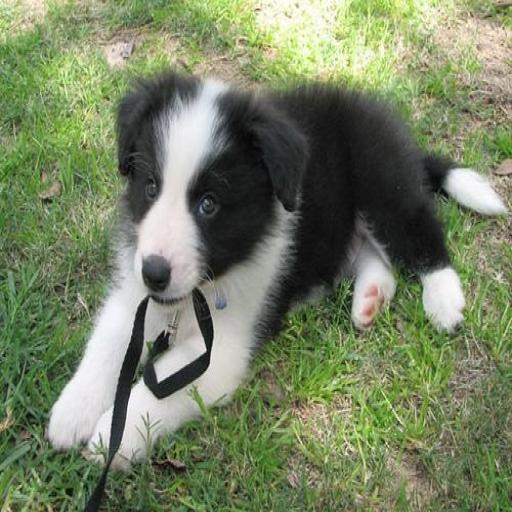dog_face: (109, 88, 302, 302)
